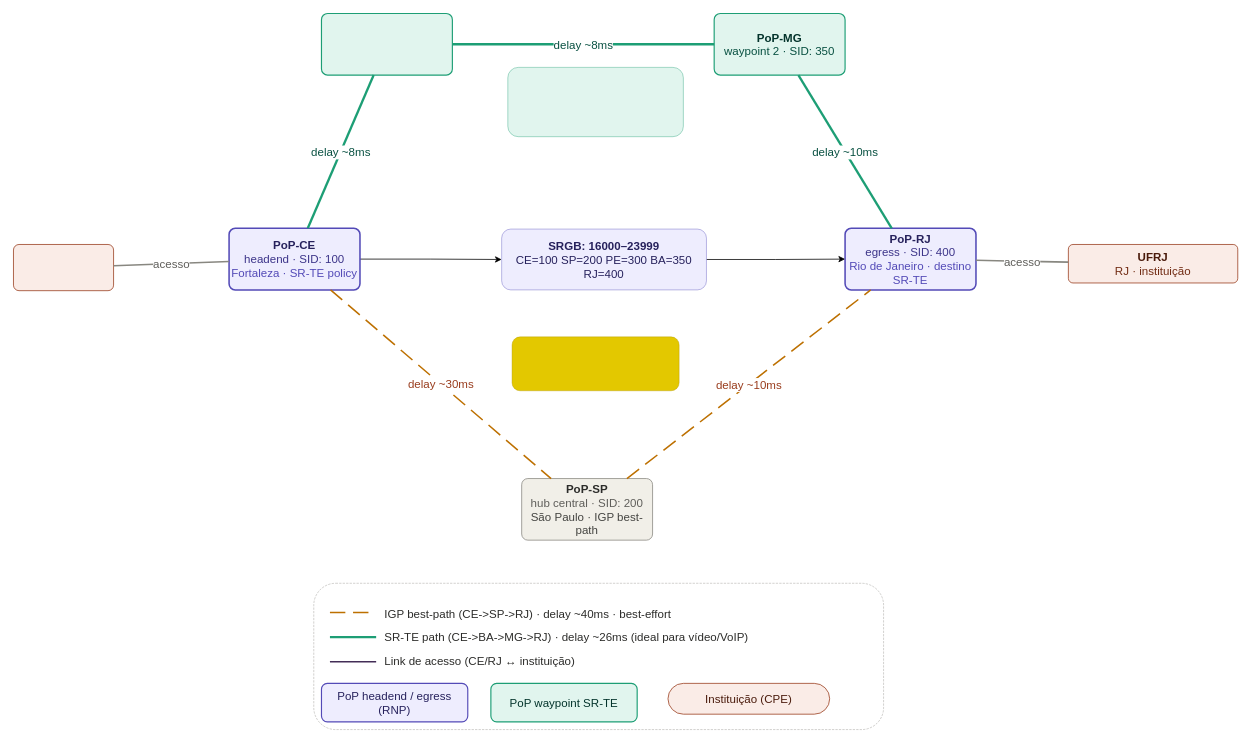
Image size: 1251x743. Some labels were removed from this diagram. Here are the shapes that lost their labels. From the top down, the box of each, then its label:
(321, 13, 453, 75): PoP-BA waypoint 1 · SID: 300
(507, 67, 683, 137): SR-TE path CE -> BA -> MG -> RJ delay total: ~26ms DSCP EF (vídeo / voip)
(13, 244, 114, 291): UFC CE · instituição
(512, 336, 679, 391): IGP best-path CE -> SP -> RJ delay total: ~40ms best-effort, SSH, downloads
